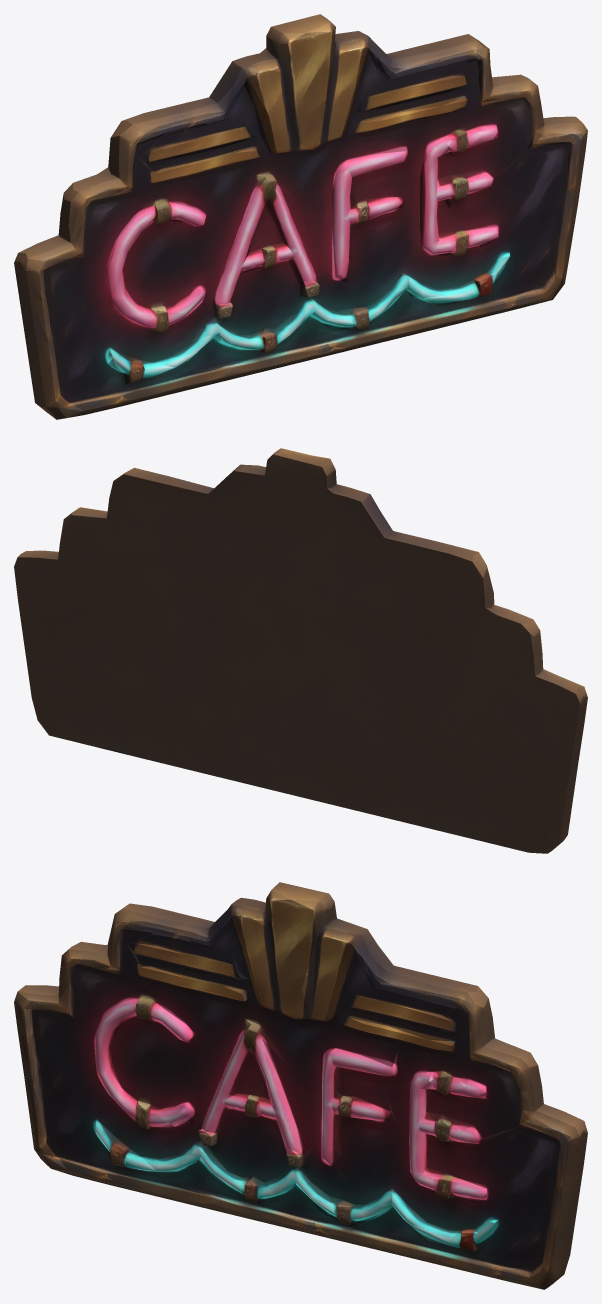
The model's file is 12-neon-variant.glb.
3 views of the same model, one above another, from view 1: azimuth 30°, elevation 25°; view 2: azimuth 150°, elevation 25°; view 3: azimuth 330°, elevation 25° (orthographic).
Parts seen in each view (by area): view 1: SM_NeonVariant; view 2: SM_NeonVariant; view 3: SM_NeonVariant.
Boxes of the visible parts, x1,y1,x2,y2 form: SM_NeonVariant: (14, 14, 587, 419); SM_NeonVariant: (14, 448, 587, 853); SM_NeonVariant: (14, 882, 587, 1289).
Size of the model in its own units: 1.74 by 0.9863 by 0.0849.
1 material, 1 textured.
